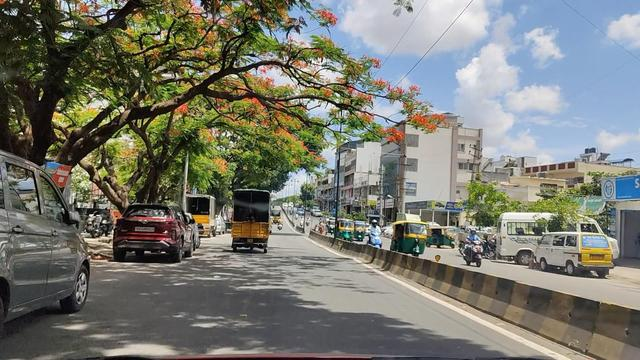HMV: (234, 182, 271, 252)
LMV: (119, 210, 186, 261)
